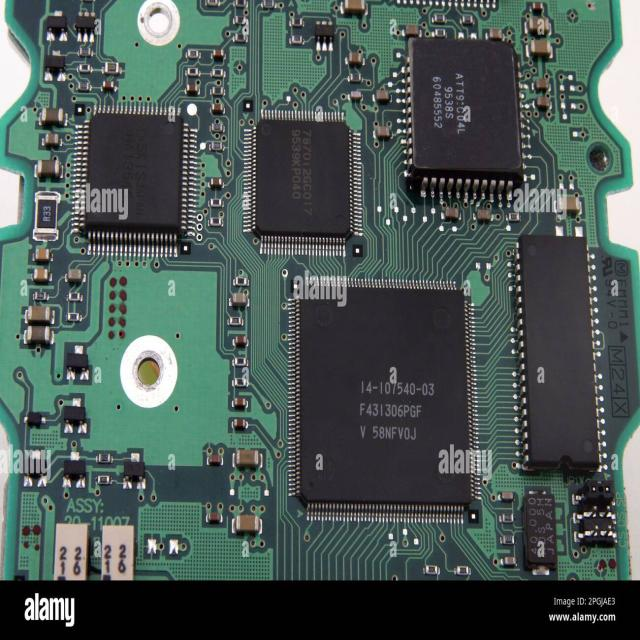pcb: (1, 0, 638, 583)
